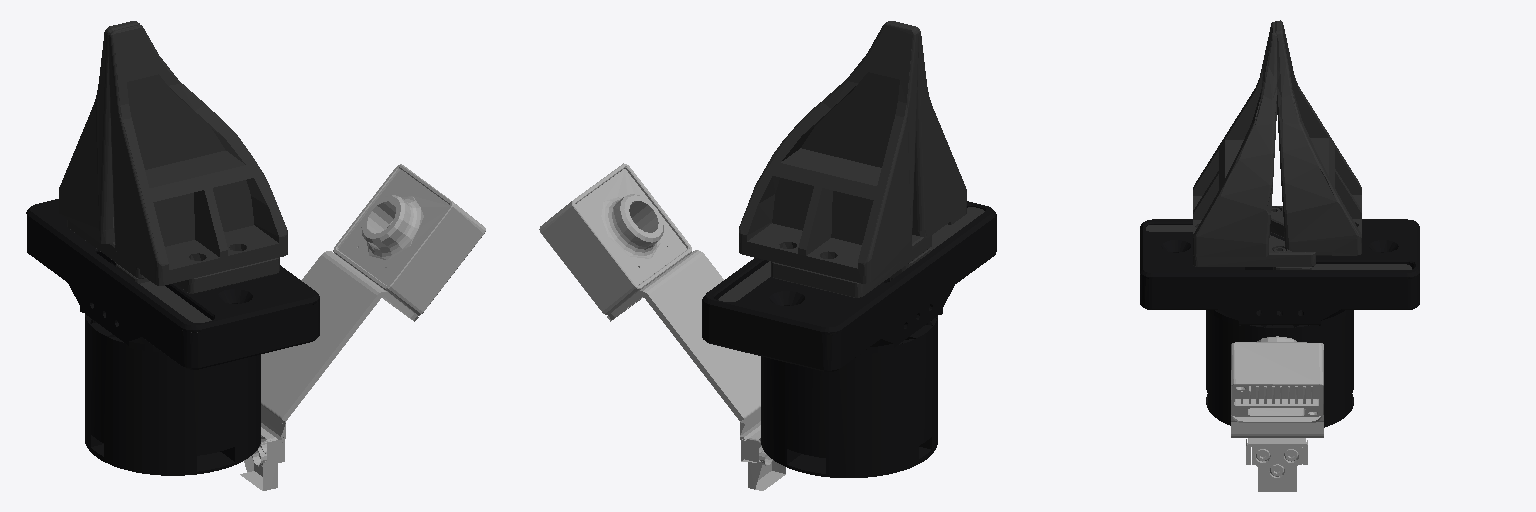
URDF robot description (anvil-gripper):
<robot name="anvil-gripper">
  <link name="hand">
    <inertial>
      <origin xyz="0 0.002 0.03" rpy="0 0 0" />
      <mass value="0.7" />
      <inertia ixx="0.0002473" ixy="0.000001" ixz="0.000001" iyy="0.00001763" iyz="0.000001" izz="0.0002521" />
    </inertial>
    <visual name="hand_anodized_black_visual">
      <origin xyz="0 0 0" rpy="0 0 0" />
      <geometry>
        <mesh filename="meshes/hand-anodized-black.obj" />
      </geometry>
      <material name="anodized_black">
        <color rgba="0.11 0.11 0.115 1" />
      </material>
    </visual>
    <visual name="hand_camera_gray_visual">
      <origin xyz="0 0 0" rpy="0 0 0" />
      <geometry>
        <mesh filename="meshes/hand-camera-gray.stl" />
      </geometry>
      <material name="gray_175">
        <color rgba="0.686275 0.686275 0.686275 1" />
      </material>
    </visual>
    <collision name="hand_collision_c00">
      <origin xyz="0 0 0" rpy="0 0 0" />
      <geometry>
        <mesh filename="meshes/hand-collision-c00.stl" />
      </geometry>
    </collision>
    <collision name="hand_collision_c01">
      <origin xyz="0 0 0" rpy="0 0 0" />
      <geometry>
        <mesh filename="meshes/hand-collision-c01.stl" />
      </geometry>
    </collision>
    <collision name="hand_collision_c02">
      <origin xyz="0 0 0" rpy="0 0 0" />
      <geometry>
        <mesh filename="meshes/hand-collision-c02.stl" />
      </geometry>
    </collision>
    <collision name="hand_collision_c03">
      <origin xyz="0 0 0" rpy="0 0 0" />
      <geometry>
        <mesh filename="meshes/hand-collision-c03.stl" />
      </geometry>
    </collision>
    <collision name="hand_body_collision_c00">
      <origin xyz="0 0 0" rpy="0 0 0" />
      <geometry>
        <mesh filename="meshes/hand-body-collision-c00.stl" />
      </geometry>
    </collision>
    <collision name="hand_body_collision_c01">
      <origin xyz="0 0 0" rpy="0 0 0" />
      <geometry>
        <mesh filename="meshes/hand-body-collision-c01.stl" />
      </geometry>
    </collision>
    <collision name="hand_body_collision_c02">
      <origin xyz="0 0 0" rpy="0 0 0" />
      <geometry>
        <mesh filename="meshes/hand-body-collision-c02.stl" />
      </geometry>
    </collision>
    <collision name="hand_body_collision_c03">
      <origin xyz="0 0 0" rpy="0 0 0" />
      <geometry>
        <mesh filename="meshes/hand-body-collision-c03.stl" />
      </geometry>
    </collision>
    <collision name="hand_body_collision_c04">
      <origin xyz="0 0 0" rpy="0 0 0" />
      <geometry>
        <mesh filename="meshes/hand-body-collision-c04.stl" />
      </geometry>
    </collision>
    <collision name="hand_body_collision_c05">
      <origin xyz="0 0 0" rpy="0 0 0" />
      <geometry>
        <mesh filename="meshes/hand-body-collision-c05.stl" />
      </geometry>
    </collision>
    <collision name="hand_body_collision_c06">
      <origin xyz="0 0 0" rpy="0 0 0" />
      <geometry>
        <mesh filename="meshes/hand-body-collision-c06.stl" />
      </geometry>
    </collision>
    <collision name="hand_body_collision_c07">
      <origin xyz="0 0 0" rpy="0 0 0" />
      <geometry>
        <mesh filename="meshes/hand-body-collision-c07.stl" />
      </geometry>
    </collision>
    <collision name="hand_body_collision_c08">
      <origin xyz="0 0 0" rpy="0 0 0" />
      <geometry>
        <mesh filename="meshes/hand-body-collision-c08.stl" />
      </geometry>
    </collision>
    <collision name="hand_body_collision_c09">
      <origin xyz="0 0 0" rpy="0 0 0" />
      <geometry>
        <mesh filename="meshes/hand-body-collision-c09.stl" />
      </geometry>
    </collision>
    <collision name="hand_body_collision_c10">
      <origin xyz="0 0 0" rpy="0 0 0" />
      <geometry>
        <mesh filename="meshes/hand-body-collision-c10.stl" />
      </geometry>
    </collision>
    <collision name="hand_body_collision_c11">
      <origin xyz="0 0 0" rpy="0 0 0" />
      <geometry>
        <mesh filename="meshes/hand-body-collision-c11.stl" />
      </geometry>
    </collision>
    <collision name="hand_camera_collision_c00">
      <origin xyz="0 0 0" rpy="0 0 0" />
      <geometry>
        <mesh filename="meshes/hand-camera-collision-c00.stl" />
      </geometry>
    </collision>
    <collision name="hand_camera_collision_c01">
      <origin xyz="0 0 0" rpy="0 0 0" />
      <geometry>
        <mesh filename="meshes/hand-camera-collision-c01.stl" />
      </geometry>
    </collision>
    <collision name="hand_camera_collision_c02">
      <origin xyz="0 0 0" rpy="0 0 0" />
      <geometry>
        <mesh filename="meshes/hand-camera-collision-c02.stl" />
      </geometry>
    </collision>
    <collision name="hand_camera_collision_c03">
      <origin xyz="0 0 0" rpy="0 0 0" />
      <geometry>
        <mesh filename="meshes/hand-camera-collision-c03.stl" />
      </geometry>
    </collision>
    <collision name="hand_camera_collision_c04">
      <origin xyz="0 0 0" rpy="0 0 0" />
      <geometry>
        <mesh filename="meshes/hand-camera-collision-c04.stl" />
      </geometry>
    </collision>
    <collision name="hand_camera_collision_c05">
      <origin xyz="0 0 0" rpy="0 0 0" />
      <geometry>
        <mesh filename="meshes/hand-camera-collision-c05.stl" />
      </geometry>
    </collision>
    <collision name="hand_camera_collision_c06">
      <origin xyz="0 0 0" rpy="0 0 0" />
      <geometry>
        <mesh filename="meshes/hand-camera-collision-c06.stl" />
      </geometry>
    </collision>
    <collision name="hand_camera_collision_c07">
      <origin xyz="0 0 0" rpy="0 0 0" />
      <geometry>
        <mesh filename="meshes/hand-camera-collision-c07.stl" />
      </geometry>
    </collision>
    <collision name="hand_camera_collision_c08">
      <origin xyz="0 0 0" rpy="0 0 0" />
      <geometry>
        <mesh filename="meshes/hand-camera-collision-c08.stl" />
      </geometry>
    </collision>
    <collision name="hand_camera_collision_c09">
      <origin xyz="0 0 0" rpy="0 0 0" />
      <geometry>
        <mesh filename="meshes/hand-camera-collision-c09.stl" />
      </geometry>
    </collision>
    <collision name="hand_camera_collision_c10">
      <origin xyz="0 0 0" rpy="0 0 0" />
      <geometry>
        <mesh filename="meshes/hand-camera-collision-c10.stl" />
      </geometry>
    </collision>
    <collision name="hand_camera_collision_c11">
      <origin xyz="0 0 0" rpy="0 0 0" />
      <geometry>
        <mesh filename="meshes/hand-camera-collision-c11.stl" />
      </geometry>
    </collision>
  </link>
  <link name="wrist_cam">
    </link>
  <link name="right_finger">
    <inertial>
      <origin xyz="0.0064528 -0.01702 0.0219685" rpy="0 0 0" />
      <mass value="0.03602545343277134" />
      <inertia ixx="0.00001444" ixy="0.0000007351" ixz="0.000002792" iyy="0.00001976" iyz="-0.000003509" izz="0.000009927" />
    </inertial>
    <visual name="right_finger_dark_visual">
      <origin xyz="0 0 0" rpy="0 0 0" />
      <geometry>
        <mesh filename="meshes/right-finger-dark.stl" />
      </geometry>
      <material name="dark_60">
        <color rgba="0.235294 0.235294 0.235294 1" />
      </material>
    </visual>
    <visual name="right_finger_fine_tip_dark_visual">
      <origin xyz="0 0 0" rpy="0 0 0" />
      <geometry>
        <mesh filename="meshes/right-finger-fine-tip-dark.stl" />
      </geometry>
      <material name="dark_60">
        <color rgba="0.235294 0.235294 0.235294 1" />
      </material>
    </visual>
    <collision name="right_finger_collision_c00">
      <origin xyz="0 0 0" rpy="0 0 0" />
      <geometry>
        <mesh filename="meshes/right-finger-collision-c00.stl" />
      </geometry>
    </collision>
    <collision name="right_finger_collision_c01">
      <origin xyz="0 0 0" rpy="0 0 0" />
      <geometry>
        <mesh filename="meshes/right-finger-collision-c01.stl" />
      </geometry>
    </collision>
    <collision name="right_finger_collision_c02">
      <origin xyz="0 0 0" rpy="0 0 0" />
      <geometry>
        <mesh filename="meshes/right-finger-collision-c02.stl" />
      </geometry>
    </collision>
    <collision name="right_finger_collision_c03">
      <origin xyz="0 0 0" rpy="0 0 0" />
      <geometry>
        <mesh filename="meshes/right-finger-collision-c03.stl" />
      </geometry>
    </collision>
    <collision name="right_finger_collision_c04">
      <origin xyz="0 0 0" rpy="0 0 0" />
      <geometry>
        <mesh filename="meshes/right-finger-collision-c04.stl" />
      </geometry>
    </collision>
    <collision name="right_finger_collision_c05">
      <origin xyz="0 0 0" rpy="0 0 0" />
      <geometry>
        <mesh filename="meshes/right-finger-collision-c05.stl" />
      </geometry>
    </collision>
    <collision name="right_finger_collision_c06">
      <origin xyz="0 0 0" rpy="0 0 0" />
      <geometry>
        <mesh filename="meshes/right-finger-collision-c06.stl" />
      </geometry>
    </collision>
    <collision name="right_finger_collision_c07">
      <origin xyz="0 0 0" rpy="0 0 0" />
      <geometry>
        <mesh filename="meshes/right-finger-collision-c07.stl" />
      </geometry>
    </collision>
    <collision name="right_finger_collision_c08">
      <origin xyz="0 0 0" rpy="0 0 0" />
      <geometry>
        <mesh filename="meshes/right-finger-collision-c08.stl" />
      </geometry>
    </collision>
    <collision name="right_finger_collision_c09">
      <origin xyz="0 0 0" rpy="0 0 0" />
      <geometry>
        <mesh filename="meshes/right-finger-collision-c09.stl" />
      </geometry>
    </collision>
    <collision name="right_finger_collision_c10">
      <origin xyz="0 0 0" rpy="0 0 0" />
      <geometry>
        <mesh filename="meshes/right-finger-collision-c10.stl" />
      </geometry>
    </collision>
    <collision name="right_finger_collision_c11">
      <origin xyz="0 0 0" rpy="0 0 0" />
      <geometry>
        <mesh filename="meshes/right-finger-collision-c11.stl" />
      </geometry>
    </collision>
    <collision name="right_finger_fine_tip_collision_c00">
      <origin xyz="0 0 0" rpy="0 0 0" />
      <geometry>
        <mesh filename="meshes/right-finger-fine-tip-collision-c00.stl" />
      </geometry>
    </collision>
    <collision name="right_finger_fine_tip_collision_c01">
      <origin xyz="0 0 0" rpy="0 0 0" />
      <geometry>
        <mesh filename="meshes/right-finger-fine-tip-collision-c01.stl" />
      </geometry>
    </collision>
    <collision name="right_finger_fine_tip_collision_c02">
      <origin xyz="0 0 0" rpy="0 0 0" />
      <geometry>
        <mesh filename="meshes/right-finger-fine-tip-collision-c02.stl" />
      </geometry>
    </collision>
    <collision name="right_finger_fine_tip_collision_c03">
      <origin xyz="0 0 0" rpy="0 0 0" />
      <geometry>
        <mesh filename="meshes/right-finger-fine-tip-collision-c03.stl" />
      </geometry>
    </collision>
    <collision name="right_finger_fine_tip_collision_c04">
      <origin xyz="0 0 0" rpy="0 0 0" />
      <geometry>
        <mesh filename="meshes/right-finger-fine-tip-collision-c04.stl" />
      </geometry>
    </collision>
    <collision name="right_finger_fine_tip_collision_c05">
      <origin xyz="0 0 0" rpy="0 0 0" />
      <geometry>
        <mesh filename="meshes/right-finger-fine-tip-collision-c05.stl" />
      </geometry>
    </collision>
    <collision name="right_finger_fine_tip_collision_c06">
      <origin xyz="0 0 0" rpy="0 0 0" />
      <geometry>
        <mesh filename="meshes/right-finger-fine-tip-collision-c06.stl" />
      </geometry>
    </collision>
    <collision name="right_finger_fine_tip_collision_c07">
      <origin xyz="0 0 0" rpy="0 0 0" />
      <geometry>
        <mesh filename="meshes/right-finger-fine-tip-collision-c07.stl" />
      </geometry>
    </collision>
    <collision name="right_finger_fine_tip_collision_c08">
      <origin xyz="0 0 0" rpy="0 0 0" />
      <geometry>
        <mesh filename="meshes/right-finger-fine-tip-collision-c08.stl" />
      </geometry>
    </collision>
    <collision name="right_finger_fine_tip_collision_c09">
      <origin xyz="0 0 0" rpy="0 0 0" />
      <geometry>
        <mesh filename="meshes/right-finger-fine-tip-collision-c09.stl" />
      </geometry>
    </collision>
    <collision name="right_finger_fine_tip_collision_c10">
      <origin xyz="0 0 0" rpy="0 0 0" />
      <geometry>
        <mesh filename="meshes/right-finger-fine-tip-collision-c10.stl" />
      </geometry>
    </collision>
    <collision name="right_finger_fine_tip_collision_c11">
      <origin xyz="0 0 0" rpy="0 0 0" />
      <geometry>
        <mesh filename="meshes/right-finger-fine-tip-collision-c11.stl" />
      </geometry>
    </collision>
  </link>
  <link name="left_finger">
    <inertial>
      <origin xyz="0.0064528 0.01702 0.0219685" rpy="0 0 0" />
      <mass value="0.03602545343277134" />
      <inertia ixx="0.00001445" ixy="-0.0000007397" ixz="0.00000243" iyy="0.00001966" iyz="0.00000351" izz="0.000009827" />
    </inertial>
    <visual name="left_finger_dark_visual">
      <origin xyz="0 0 0" rpy="0 0 0" />
      <geometry>
        <mesh filename="meshes/left-finger-dark.stl" />
      </geometry>
      <material name="dark_60">
        <color rgba="0.235294 0.235294 0.235294 1" />
      </material>
    </visual>
    <visual name="left_finger_fine_tip_dark_visual">
      <origin xyz="0 0 0" rpy="0 0 0" />
      <geometry>
        <mesh filename="meshes/left-finger-fine-tip-dark.stl" />
      </geometry>
      <material name="dark_60">
        <color rgba="0.235294 0.235294 0.235294 1" />
      </material>
    </visual>
    <collision name="left_finger_collision_c00">
      <origin xyz="0 0 0" rpy="0 0 0" />
      <geometry>
        <mesh filename="meshes/left-finger-collision-c00.stl" />
      </geometry>
    </collision>
    <collision name="left_finger_collision_c01">
      <origin xyz="0 0 0" rpy="0 0 0" />
      <geometry>
        <mesh filename="meshes/left-finger-collision-c01.stl" />
      </geometry>
    </collision>
    <collision name="left_finger_collision_c02">
      <origin xyz="0 0 0" rpy="0 0 0" />
      <geometry>
        <mesh filename="meshes/left-finger-collision-c02.stl" />
      </geometry>
    </collision>
    <collision name="left_finger_collision_c03">
      <origin xyz="0 0 0" rpy="0 0 0" />
      <geometry>
        <mesh filename="meshes/left-finger-collision-c03.stl" />
      </geometry>
    </collision>
    <collision name="left_finger_collision_c04">
      <origin xyz="0 0 0" rpy="0 0 0" />
      <geometry>
        <mesh filename="meshes/left-finger-collision-c04.stl" />
      </geometry>
    </collision>
    <collision name="left_finger_collision_c05">
      <origin xyz="0 0 0" rpy="0 0 0" />
      <geometry>
        <mesh filename="meshes/left-finger-collision-c05.stl" />
      </geometry>
    </collision>
    <collision name="left_finger_collision_c06">
      <origin xyz="0 0 0" rpy="0 0 0" />
      <geometry>
        <mesh filename="meshes/left-finger-collision-c06.stl" />
      </geometry>
    </collision>
    <collision name="left_finger_collision_c07">
      <origin xyz="0 0 0" rpy="0 0 0" />
      <geometry>
        <mesh filename="meshes/left-finger-collision-c07.stl" />
      </geometry>
    </collision>
    <collision name="left_finger_collision_c08">
      <origin xyz="0 0 0" rpy="0 0 0" />
      <geometry>
        <mesh filename="meshes/left-finger-collision-c08.stl" />
      </geometry>
    </collision>
    <collision name="left_finger_collision_c09">
      <origin xyz="0 0 0" rpy="0 0 0" />
      <geometry>
        <mesh filename="meshes/left-finger-collision-c09.stl" />
      </geometry>
    </collision>
    <collision name="left_finger_collision_c10">
      <origin xyz="0 0 0" rpy="0 0 0" />
      <geometry>
        <mesh filename="meshes/left-finger-collision-c10.stl" />
      </geometry>
    </collision>
    <collision name="left_finger_collision_c11">
      <origin xyz="0 0 0" rpy="0 0 0" />
      <geometry>
        <mesh filename="meshes/left-finger-collision-c11.stl" />
      </geometry>
    </collision>
    <collision name="left_finger_fine_tip_collision_c00">
      <origin xyz="0 0 0" rpy="0 0 0" />
      <geometry>
        <mesh filename="meshes/left-finger-fine-tip-collision-c00.stl" />
      </geometry>
    </collision>
    <collision name="left_finger_fine_tip_collision_c01">
      <origin xyz="0 0 0" rpy="0 0 0" />
      <geometry>
        <mesh filename="meshes/left-finger-fine-tip-collision-c01.stl" />
      </geometry>
    </collision>
    <collision name="left_finger_fine_tip_collision_c02">
      <origin xyz="0 0 0" rpy="0 0 0" />
      <geometry>
        <mesh filename="meshes/left-finger-fine-tip-collision-c02.stl" />
      </geometry>
    </collision>
    <collision name="left_finger_fine_tip_collision_c03">
      <origin xyz="0 0 0" rpy="0 0 0" />
      <geometry>
        <mesh filename="meshes/left-finger-fine-tip-collision-c03.stl" />
      </geometry>
    </collision>
    <collision name="left_finger_fine_tip_collision_c04">
      <origin xyz="0 0 0" rpy="0 0 0" />
      <geometry>
        <mesh filename="meshes/left-finger-fine-tip-collision-c04.stl" />
      </geometry>
    </collision>
    <collision name="left_finger_fine_tip_collision_c05">
      <origin xyz="0 0 0" rpy="0 0 0" />
      <geometry>
        <mesh filename="meshes/left-finger-fine-tip-collision-c05.stl" />
      </geometry>
    </collision>
    <collision name="left_finger_fine_tip_collision_c06">
      <origin xyz="0 0 0" rpy="0 0 0" />
      <geometry>
        <mesh filename="meshes/left-finger-fine-tip-collision-c06.stl" />
      </geometry>
    </collision>
    <collision name="left_finger_fine_tip_collision_c07">
      <origin xyz="0 0 0" rpy="0 0 0" />
      <geometry>
        <mesh filename="meshes/left-finger-fine-tip-collision-c07.stl" />
      </geometry>
    </collision>
    <collision name="left_finger_fine_tip_collision_c08">
      <origin xyz="0 0 0" rpy="0 0 0" />
      <geometry>
        <mesh filename="meshes/left-finger-fine-tip-collision-c08.stl" />
      </geometry>
    </collision>
    <collision name="left_finger_fine_tip_collision_c09">
      <origin xyz="0 0 0" rpy="0 0 0" />
      <geometry>
        <mesh filename="meshes/left-finger-fine-tip-collision-c09.stl" />
      </geometry>
    </collision>
    <collision name="left_finger_fine_tip_collision_c10">
      <origin xyz="0 0 0" rpy="0 0 0" />
      <geometry>
        <mesh filename="meshes/left-finger-fine-tip-collision-c10.stl" />
      </geometry>
    </collision>
    <collision name="left_finger_fine_tip_collision_c11">
      <origin xyz="0 0 0" rpy="0 0 0" />
      <geometry>
        <mesh filename="meshes/left-finger-fine-tip-collision-c11.stl" />
      </geometry>
    </collision>
  </link>
  <link name="hand_tcp">
    </link>
  <joint name="wrist_cam_joint" type="fixed">
    <origin xyz="0.074 0.001 0.009" rpy="-0.8255 0 1.5708" />
    <parent link="hand" />
    <child link="wrist_cam" />
    <axis xyz="1 0 0" />
    <limit lower="0" upper="0" effort="0" velocity="0" />
  </joint>
  <joint name="finger_joint1" type="prismatic">
    <origin xyz="0 -0.006 0.015" rpy="0 0 0" />
    <parent link="hand" />
    <child link="right_finger" />
    <axis xyz="0 -1 0" />
    <limit lower="0" upper="0.05" effort="10" velocity="1" />
    <dynamics damping="60.5" friction="9.26" />
  </joint>
  <joint name="finger_joint2" type="prismatic">
    <origin xyz="0 0.006 0.015" rpy="0 0 0" />
    <parent link="hand" />
    <child link="left_finger" />
    <axis xyz="0 1 0" />
    <limit lower="0" upper="0.05" effort="10" velocity="1" />
    <mimic joint="finger_joint1" />
  </joint>
  <joint name="hand_tcp_joint" type="fixed">
    <origin xyz="0 0 0.08" rpy="0 0 0" />
    <parent link="hand" />
    <child link="hand_tcp" />
    <axis xyz="1 0 0" />
    <limit lower="0" upper="0" effort="0" velocity="0" />
  </joint>
<mujoco>
    <compiler balanceinertia="true" fusestatic="false" discardvisual="false" />
  </mujoco></robot>

--- Facts derived from the render (not from the file) ---
Views: 3 orthographic renders of the robot side by side, from view 1: azimuth 30°, elevation 25°; view 2: azimuth 150°, elevation 25°; view 3: azimuth 270°, elevation 25°.
Model anvil-gripper with 5 links and 4 joints (2 prismatic, 2 fixed), rooted at hand, posed all joints at 0.
Visible links, largest first — view 1: hand, right_finger, left_finger; view 2: hand, left_finger, right_finger; view 3: hand, right_finger, left_finger.
Boxes of the visible links, x1,y1,x2,y2 form: hand: [26, 164, 485, 490]; right_finger: [108, 24, 287, 293]; left_finger: [59, 21, 211, 332]; hand: [539, 163, 996, 490]; left_finger: [739, 21, 984, 297]; right_finger: [718, 21, 966, 301]; hand: [1140, 219, 1419, 491]; right_finger: [1193, 22, 1411, 269]; left_finger: [1146, 20, 1361, 255].
Size in the robot's own frame: 0.1345 by 0.108 by 0.1737 metres.
6 mesh visuals loaded from 6 distinct referenced files (5 binary STL, 1 OBJ).
